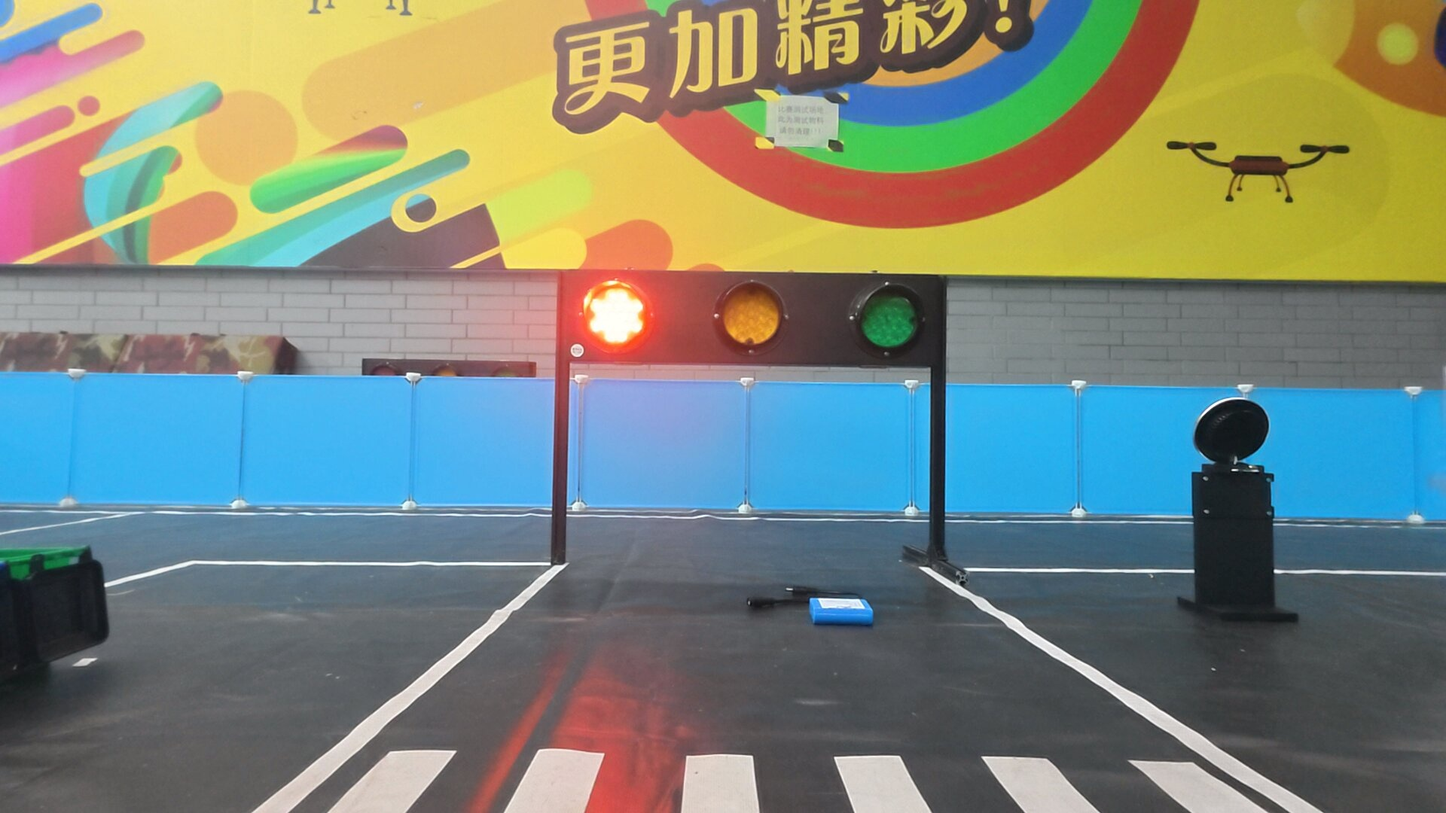stop: (579, 274, 654, 352)
